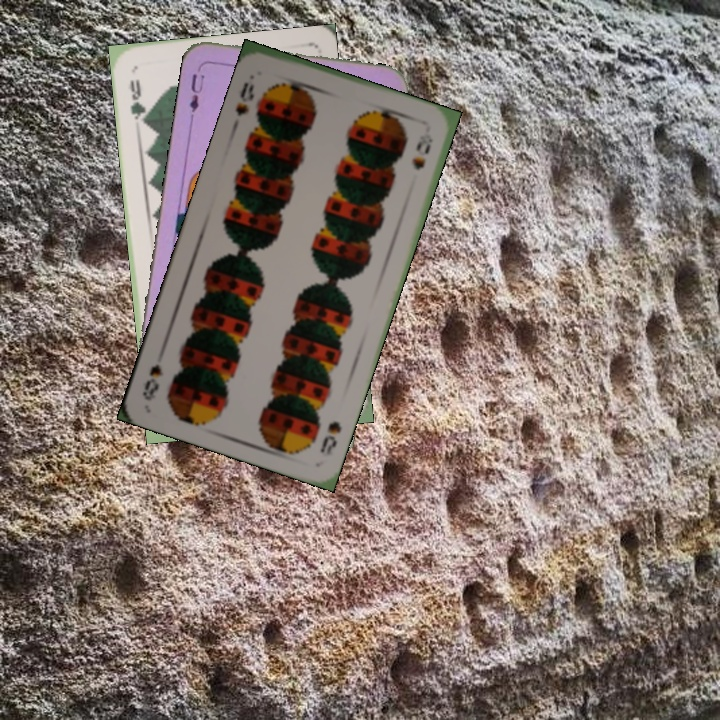EU: (185, 61, 207, 120)
G9: (126, 75, 149, 126)
S8: (316, 417, 344, 457), (231, 78, 257, 119)
